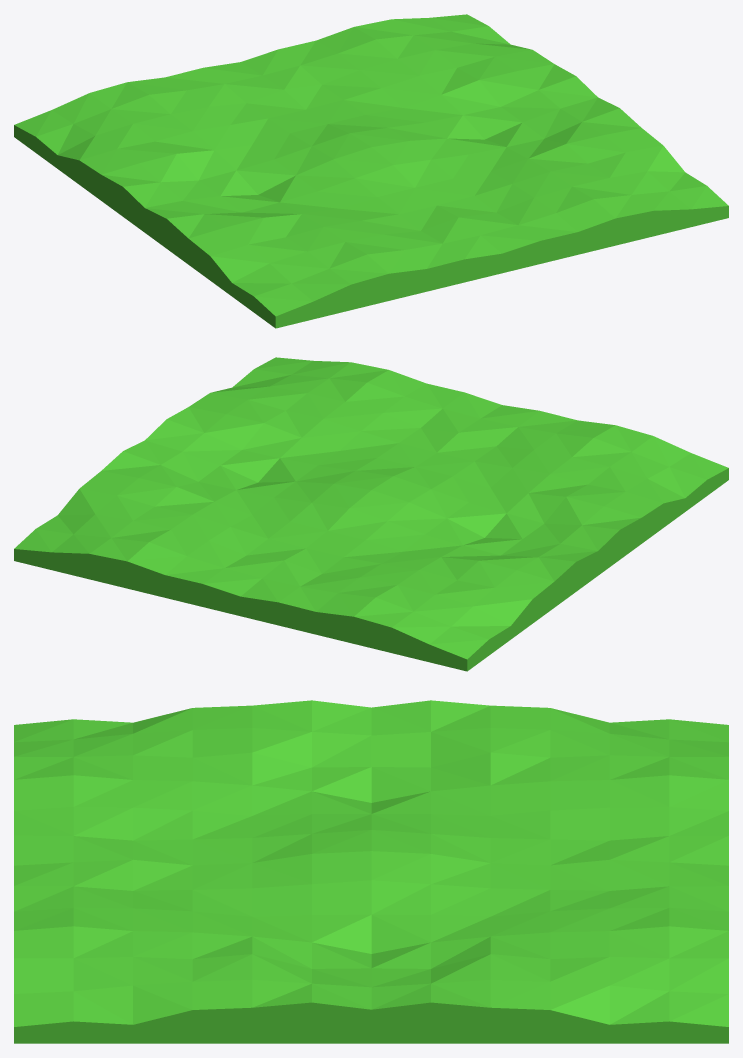
File: Terrain.fbx
The picture shows the model from 3 angles, top to bottom: view 1: azimuth 30°, elevation 25°; view 2: azimuth 150°, elevation 25°; view 3: azimuth 270°, elevation 25°; orthographic projection. The views are drawn at different scales.
Visible parts, largest first — view 1: Cube.005; view 2: Cube.005; view 3: Cube.005.
Boxes of the visible parts, x1=… form: Cube.005: x1=14, y1=14, x2=728, y2=328; Cube.005: x1=14, y1=357, x2=728, y2=671; Cube.005: x1=14, y1=700, x2=728, y2=1043.
Bounding box in the file's own units: 16 × 1.03 × 16.
